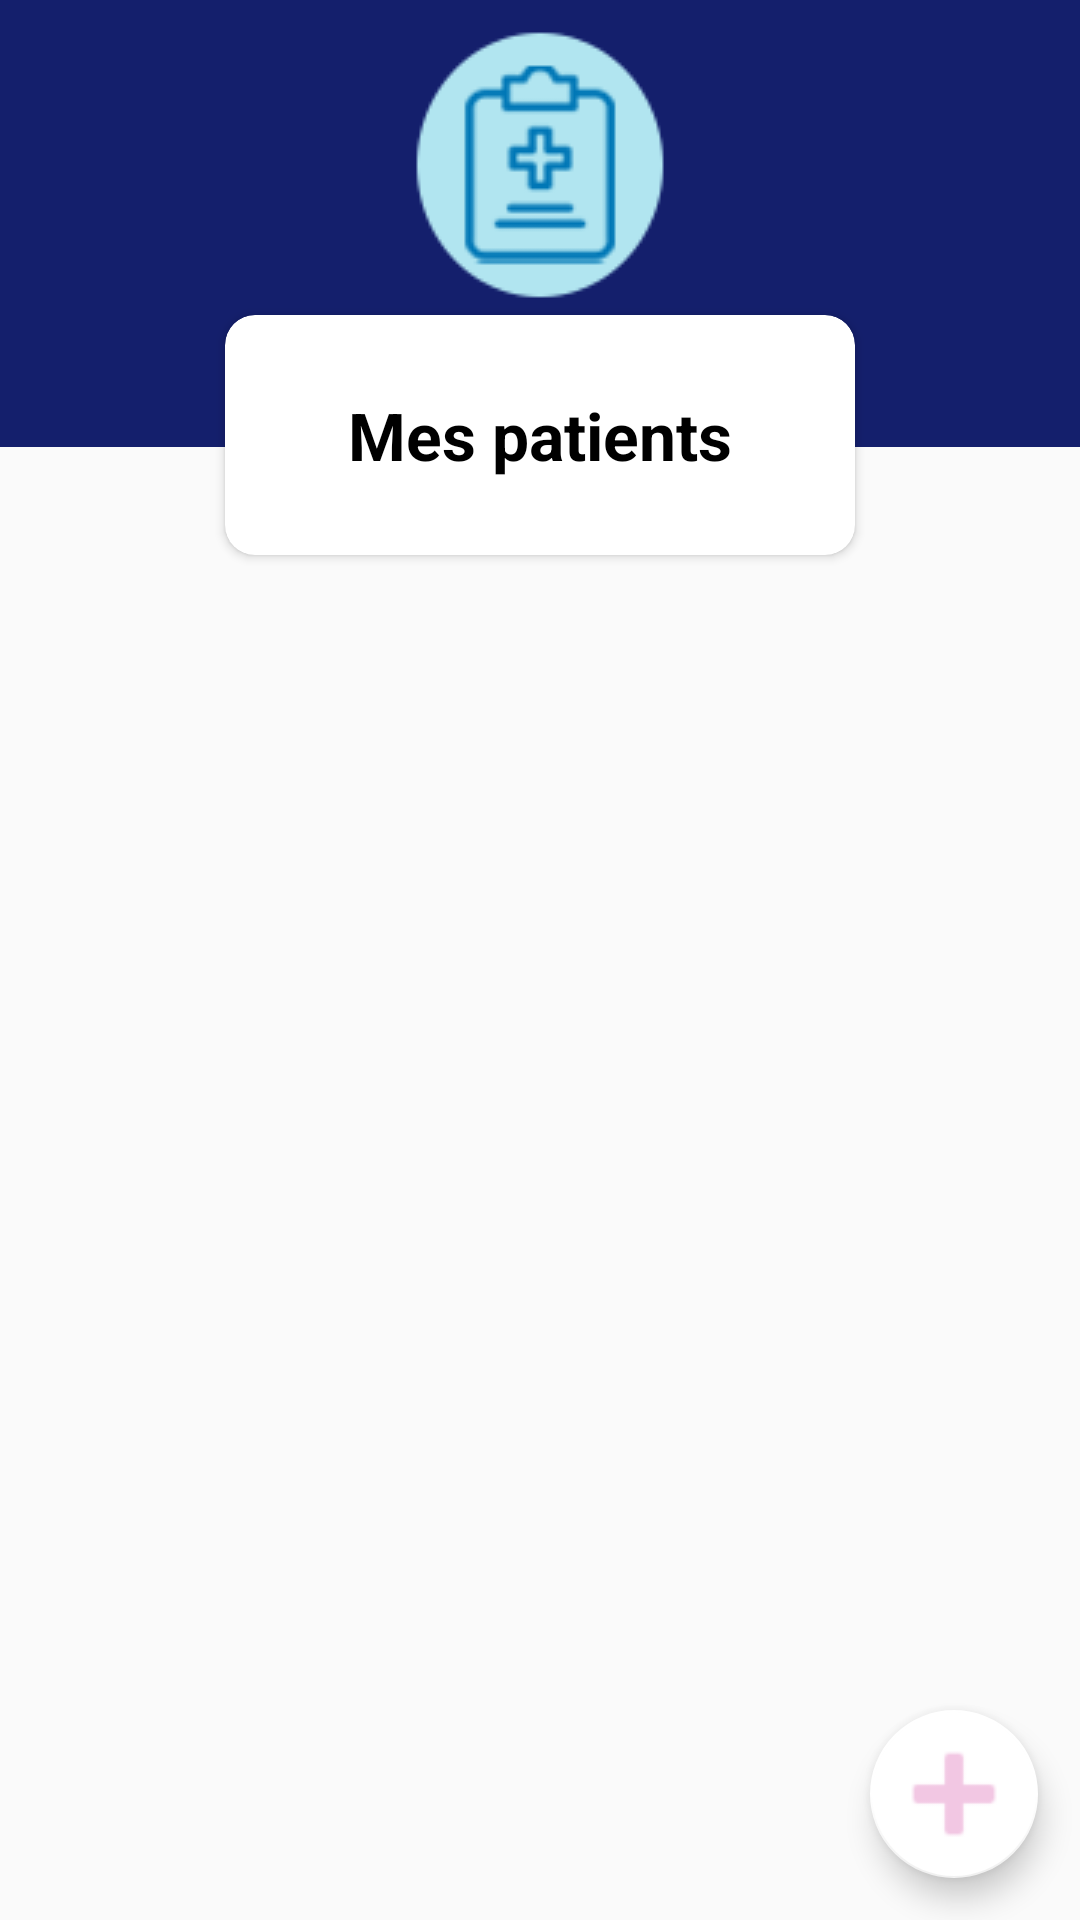

Named icons in this screenshot (1080 x 1920) and their centers, point (x, y):
add: point (954, 1794)
headpatient: point (540, 165)
